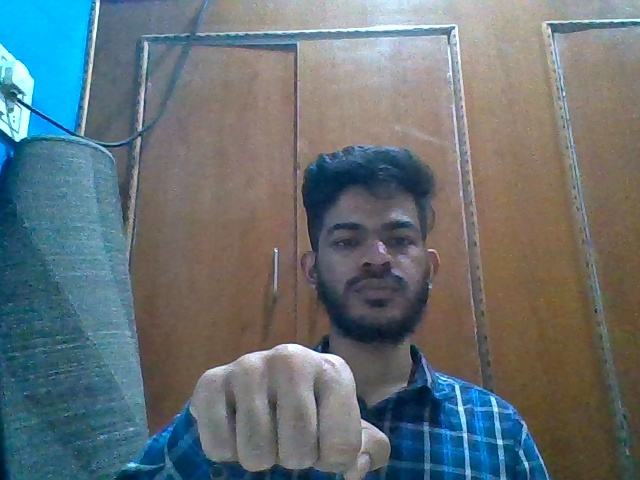yes: (189, 339, 395, 480)
